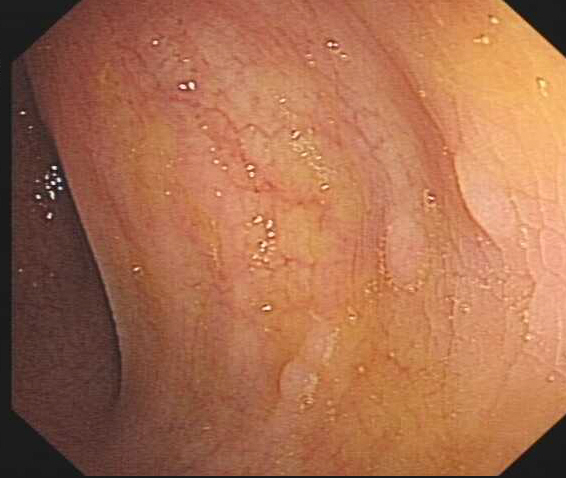others: (451, 146, 519, 250), (382, 211, 430, 296), (276, 349, 320, 407)
